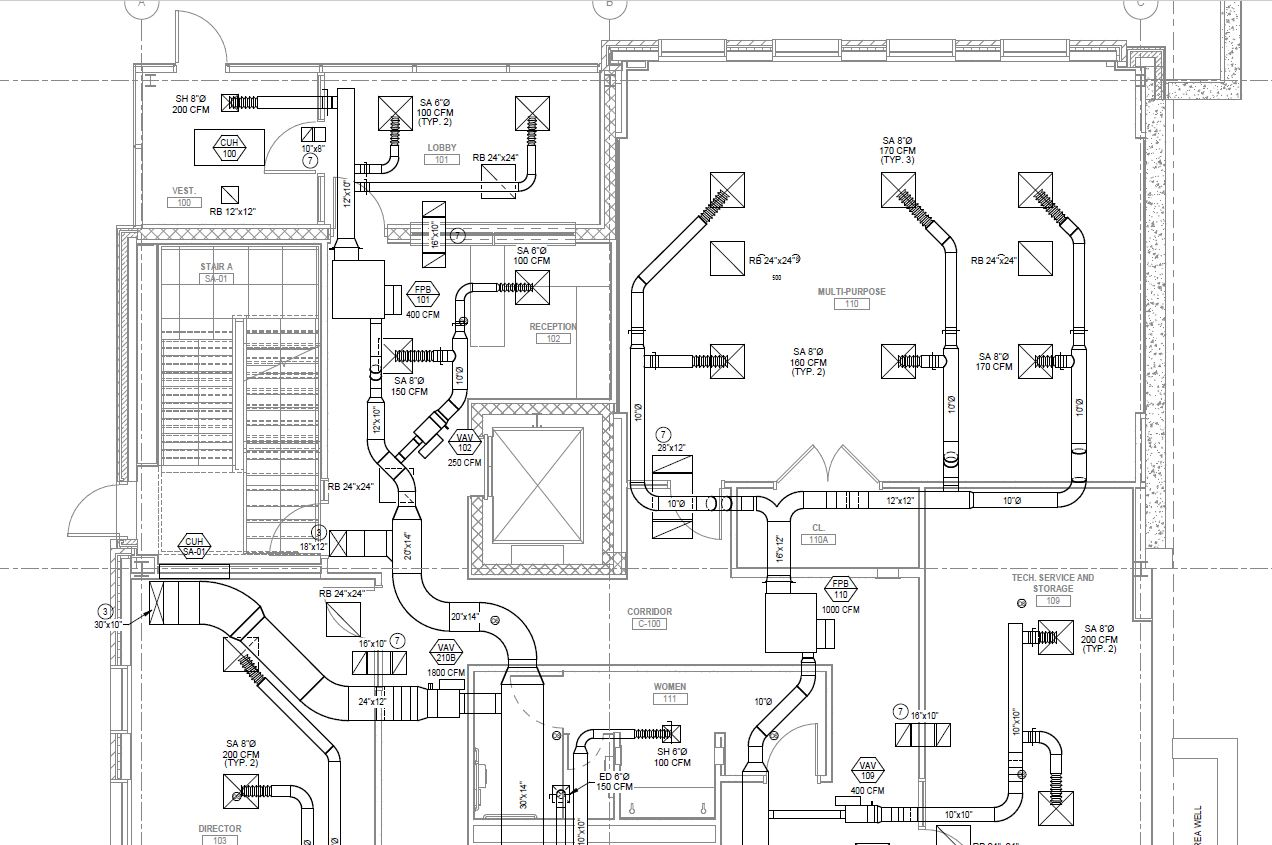VAV Box: (402, 404, 459, 461), (828, 788, 897, 833), (425, 674, 482, 726)
